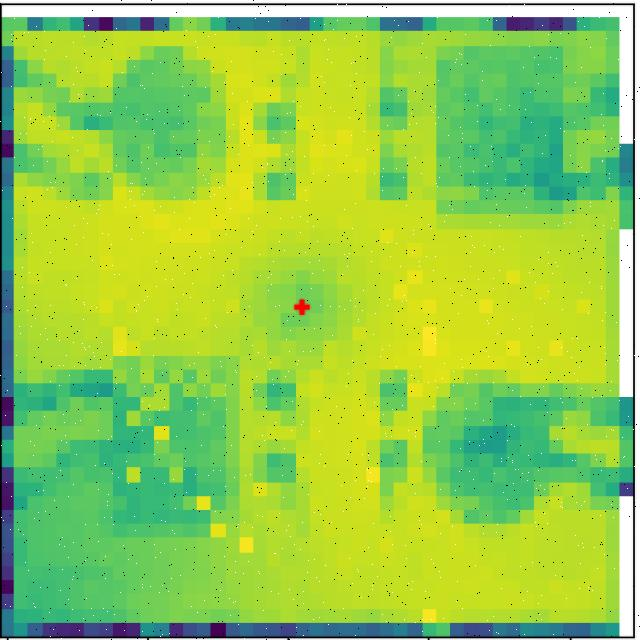Concrete: (113, 360, 238, 538)
Glass: (436, 46, 567, 215)
Metal: (102, 46, 226, 207)
Wood: (422, 372, 556, 530)
